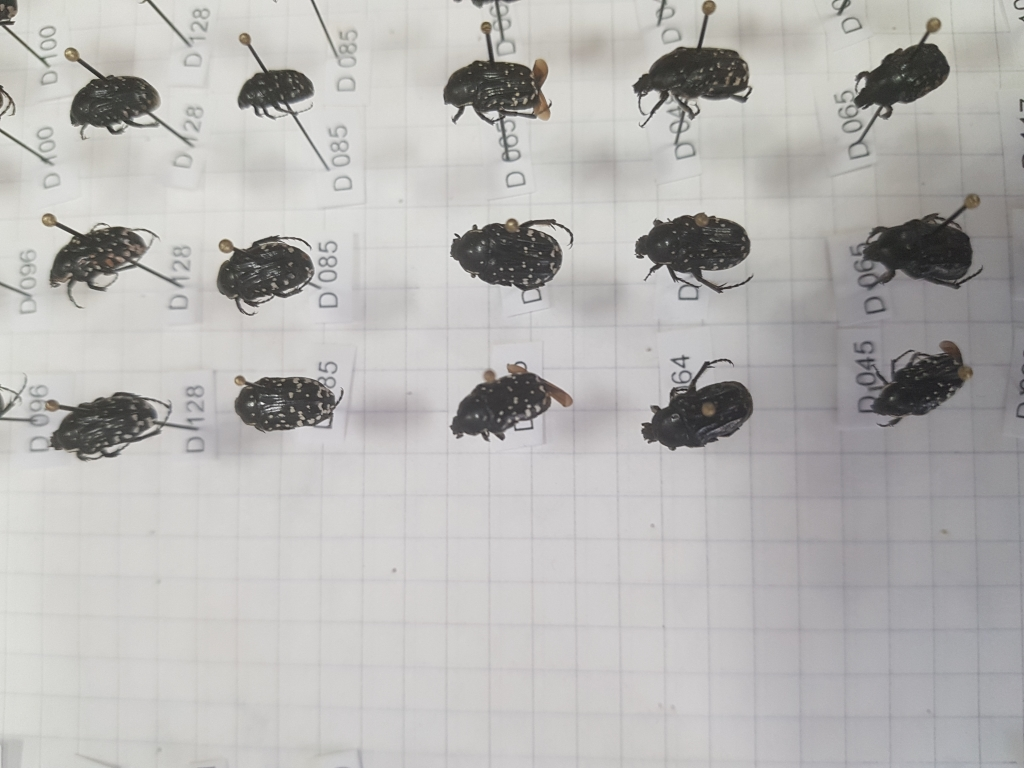Oxythyrea_cinctella: (441, 213, 575, 300), (626, 39, 754, 128), (438, 53, 558, 128), (231, 370, 349, 444)
